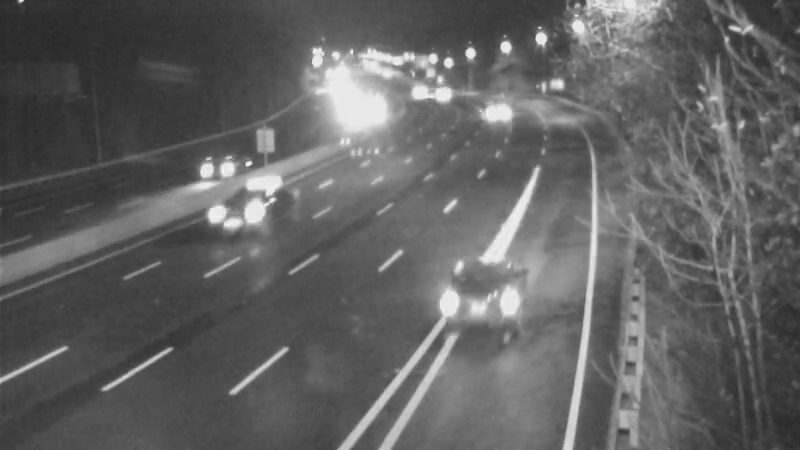vehicle: (200, 160, 280, 240), (456, 251, 536, 331), (179, 134, 259, 214), (396, 70, 446, 120), (419, 67, 469, 117), (468, 85, 518, 135)
